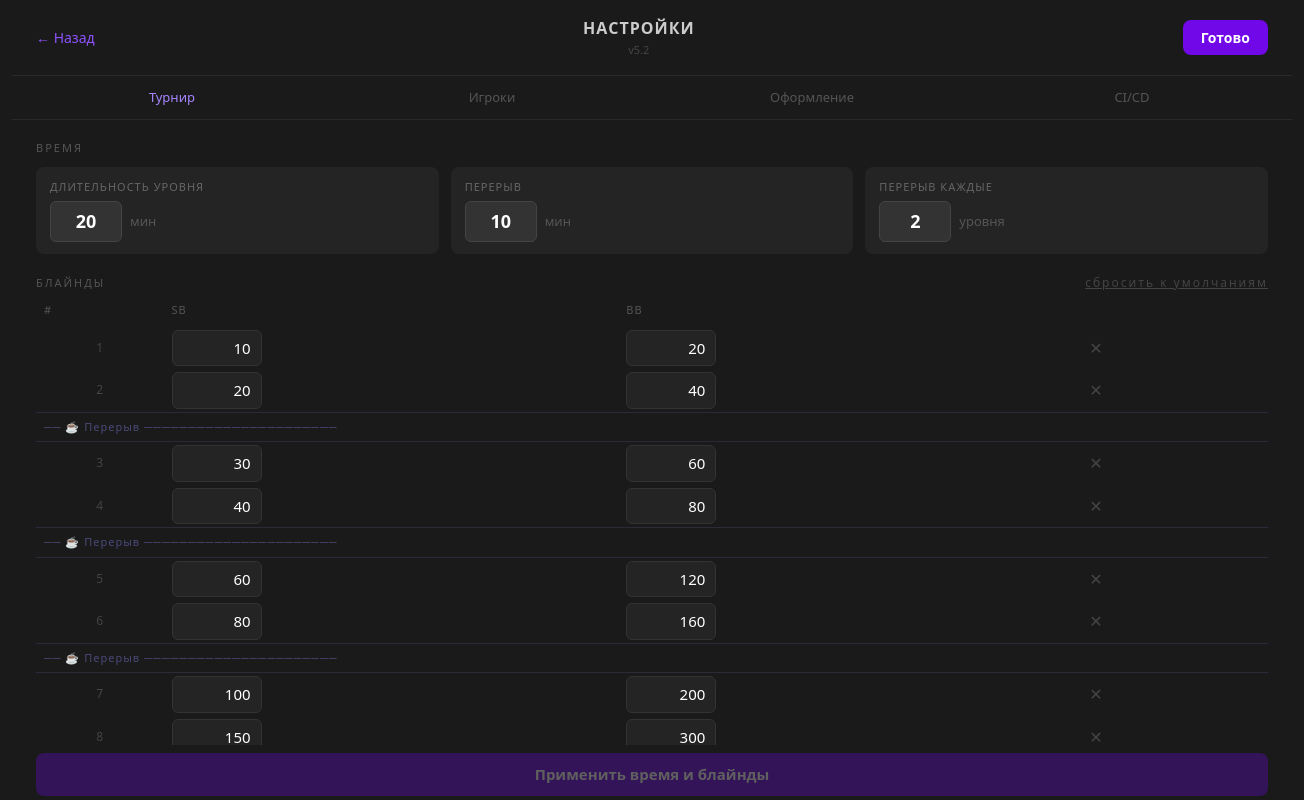
Test: SettingsScreen — Tabs › clicking "Оформление" tab renders display settings section
Click the button "Оформление" at (812, 97), box [652,76,972,119]
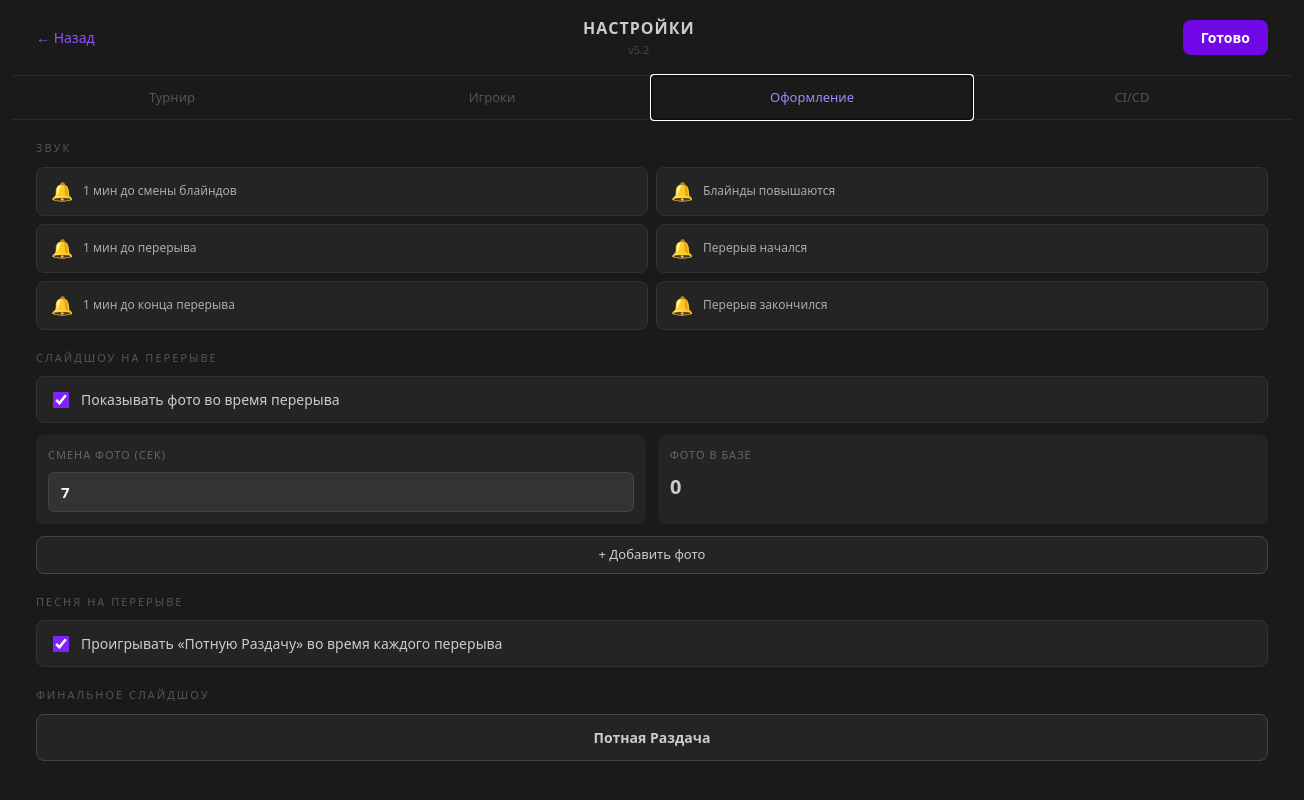
Check: the text "Слайдшоу на перерыве" is shown, box [36,350,218,364]
